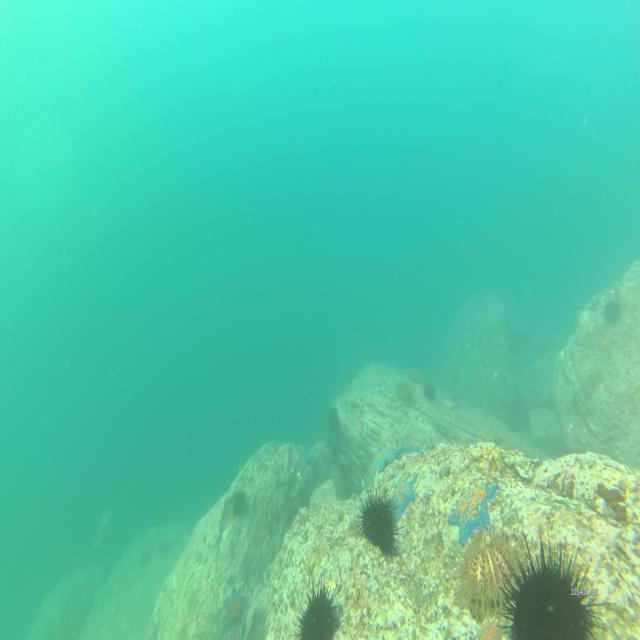echinus: (497, 534, 614, 640), (443, 522, 531, 618), (291, 574, 348, 640), (353, 488, 408, 555), (500, 389, 531, 434), (286, 488, 311, 531), (394, 374, 417, 414), (325, 406, 344, 443), (230, 489, 249, 523), (603, 296, 623, 328), (424, 376, 439, 407), (410, 359, 426, 386), (156, 532, 172, 556), (138, 546, 154, 567)
starfish: (447, 476, 499, 544), (388, 471, 418, 524), (222, 584, 249, 632), (366, 444, 398, 477), (398, 435, 430, 457)
